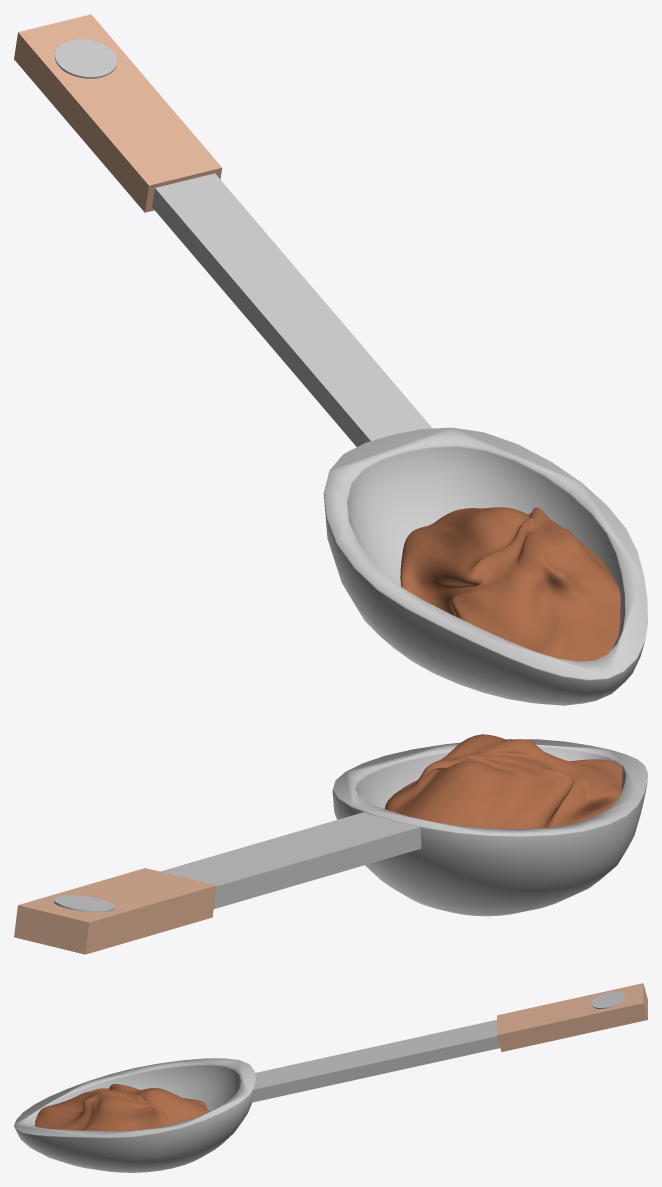
Rendered from chaipohspoon1.fbx.
3 renders of one model, top to bottom at view 1: azimuth 30°, elevation 25°; view 2: azimuth 150°, elevation 25°; view 3: azimuth 270°, elevation 25°, orthographic. The views are drawn at different scales.
Visible parts, largest first — view 1: Sphere.048, Sphere.041, Cube.002, Cube.006, Cylinder.024; view 2: Sphere.048, Sphere.041, Cube.002, Cube.006, Cylinder.024; view 3: Sphere.048, Cube.002, Sphere.041, Cube.006, Cylinder.024.
Part boxes in pixels (<box>): Sphere.048: <box>323,427,647,705</box>; Sphere.041: <box>400,507,620,661</box>; Cube.002: <box>152,173,432,446</box>; Cube.006: <box>14,14,222,212</box>; Cylinder.024: <box>55,39,116,78</box>; Sphere.048: <box>332,739,647,916</box>; Sphere.041: <box>385,734,622,829</box>; Cube.002: <box>160,812,421,908</box>; Cube.006: <box>14,868,216,954</box>; Cylinder.024: <box>54,895,114,912</box>; Sphere.048: <box>14,1058,255,1172</box>; Cube.002: <box>251,1020,500,1102</box>; Sphere.041: <box>34,1084,209,1131</box>; Cube.006: <box>497,983,647,1051</box>; Cylinder.024: <box>591,991,625,1008</box>.
Bounding box in the file's own units: 63.94 × 74.49 × 248.
